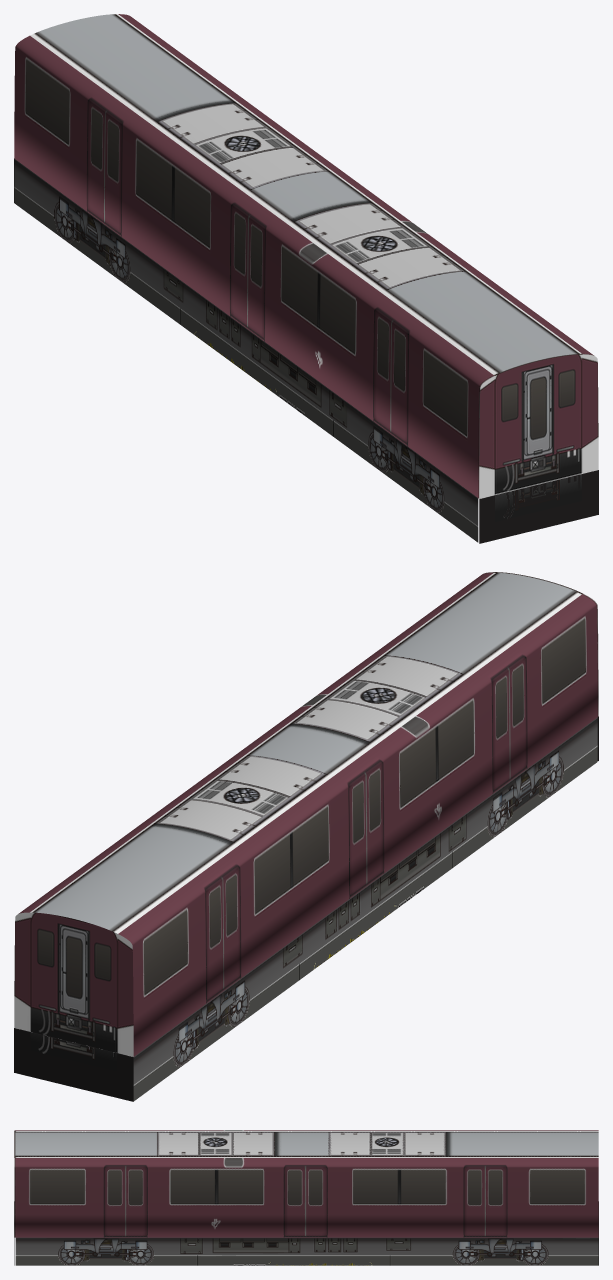
File: car2.glb
The picture shows the model from 3 angles, top to bottom: view 1: azimuth 30°, elevation 25°; view 2: azimuth 150°, elevation 25°; view 3: azimuth 270°, elevation 25°; orthographic projection. The views are drawn at different scales.
Visible parts, largest first — view 1: hankyu-9300-car2; view 2: hankyu-9300-car2; view 3: hankyu-9300-car2.
Boxes of the visible parts, box(x1,y1,x2,y2) form: hankyu-9300-car2: box(14, 14, 598, 543); hankyu-9300-car2: box(14, 572, 598, 1101); hankyu-9300-car2: box(14, 1130, 598, 1265).
Bounding box in the file's own units: 2.8 × 3.77 × 18.93.
Materials: 8 (7 with a texture image).
